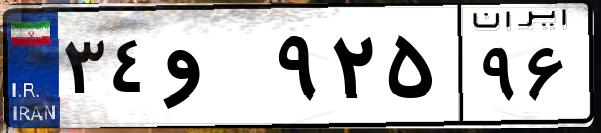2: (330, 28, 385, 110)
3: (57, 26, 110, 100)
4: (110, 28, 158, 98)
5: (385, 28, 445, 110)
6: (525, 38, 570, 115)
9: (270, 28, 330, 110), (475, 38, 525, 113)
و: (158, 20, 270, 120)
